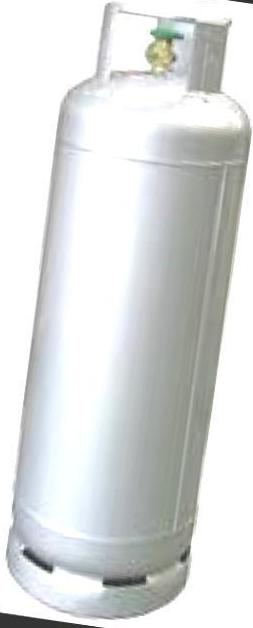cylinder: (1, 1, 253, 628)
